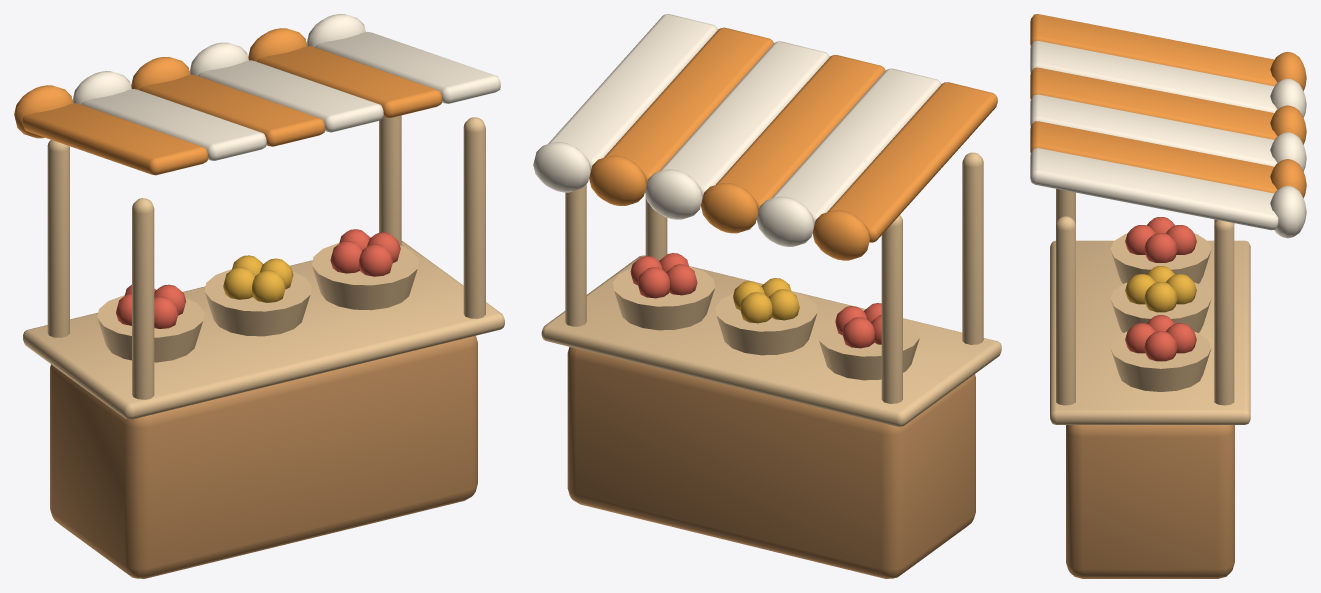
File: ow_stall.glb
The picture shows the model from 3 angles, left to right: view 1: azimuth 30°, elevation 25°; view 2: azimuth 150°, elevation 25°; view 3: azimuth 270°, elevation 25°; orthographic projection. The views are drawn at different scales.
Visible parts, largest first — view 1: OwStall; view 2: OwStall; view 3: OwStall.
Boxes of the visible parts, x1,y1,x2,y2 form: OwStall: (14, 14, 504, 578); OwStall: (533, 14, 1001, 578); OwStall: (1030, 14, 1306, 578).
Bounding box in the file's own units: 1.95 × 2.15 × 1.31.
